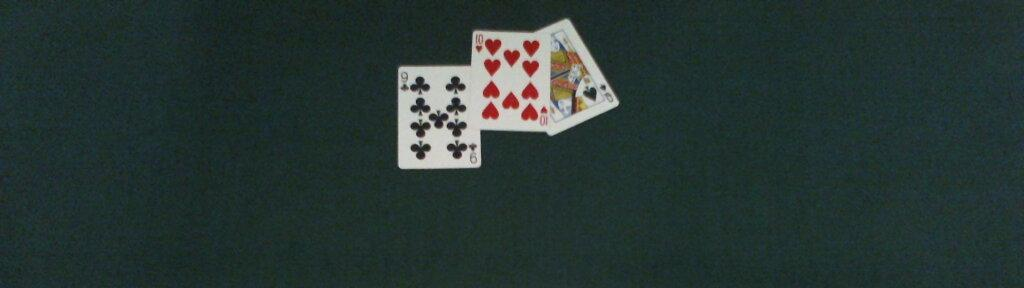nine: (396, 66, 481, 170)
queen: (534, 18, 619, 135)
ten: (471, 30, 551, 133)
